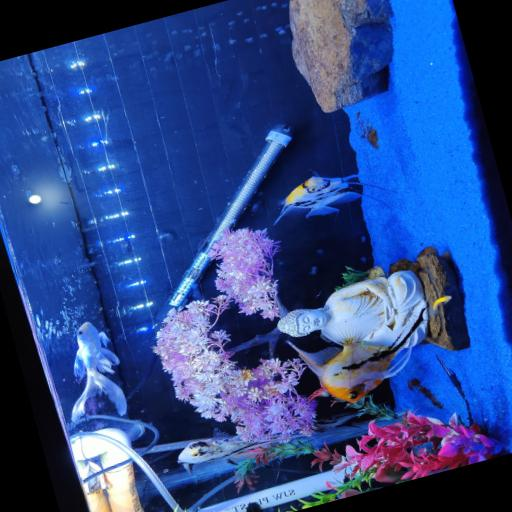Fish: (288, 322, 411, 403), (274, 172, 380, 225), (72, 322, 127, 421), (178, 437, 282, 474), (433, 296, 452, 312)
